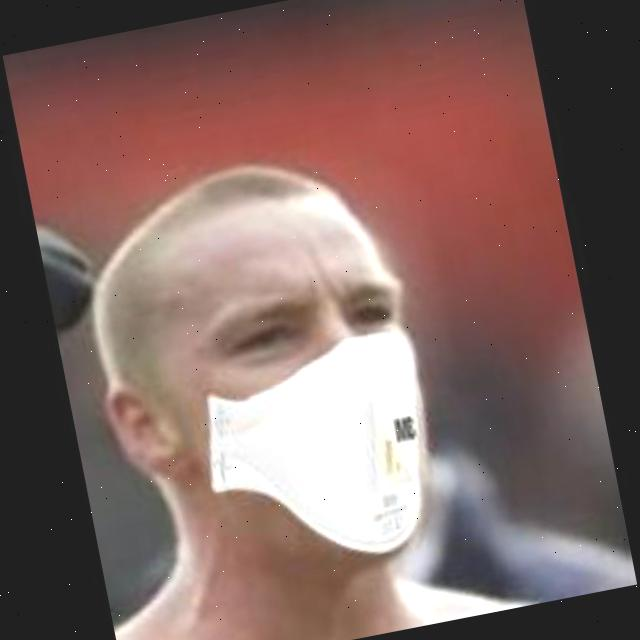suspicion: (83, 88, 489, 600)
